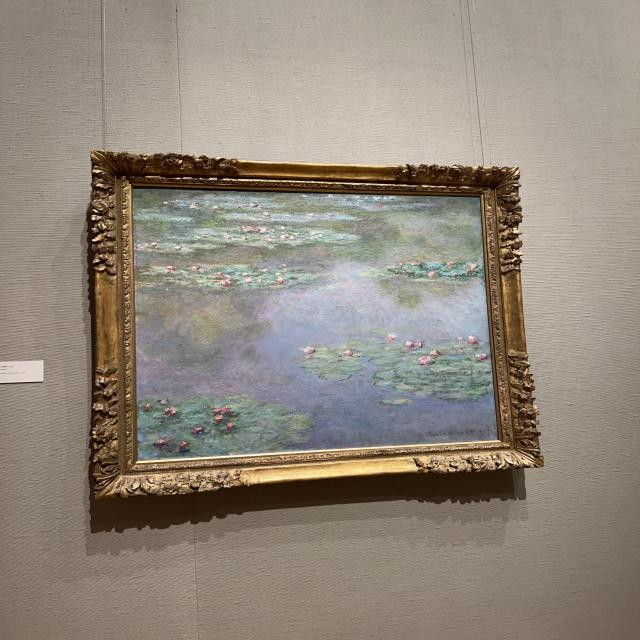lilies: (135, 191, 496, 457)
